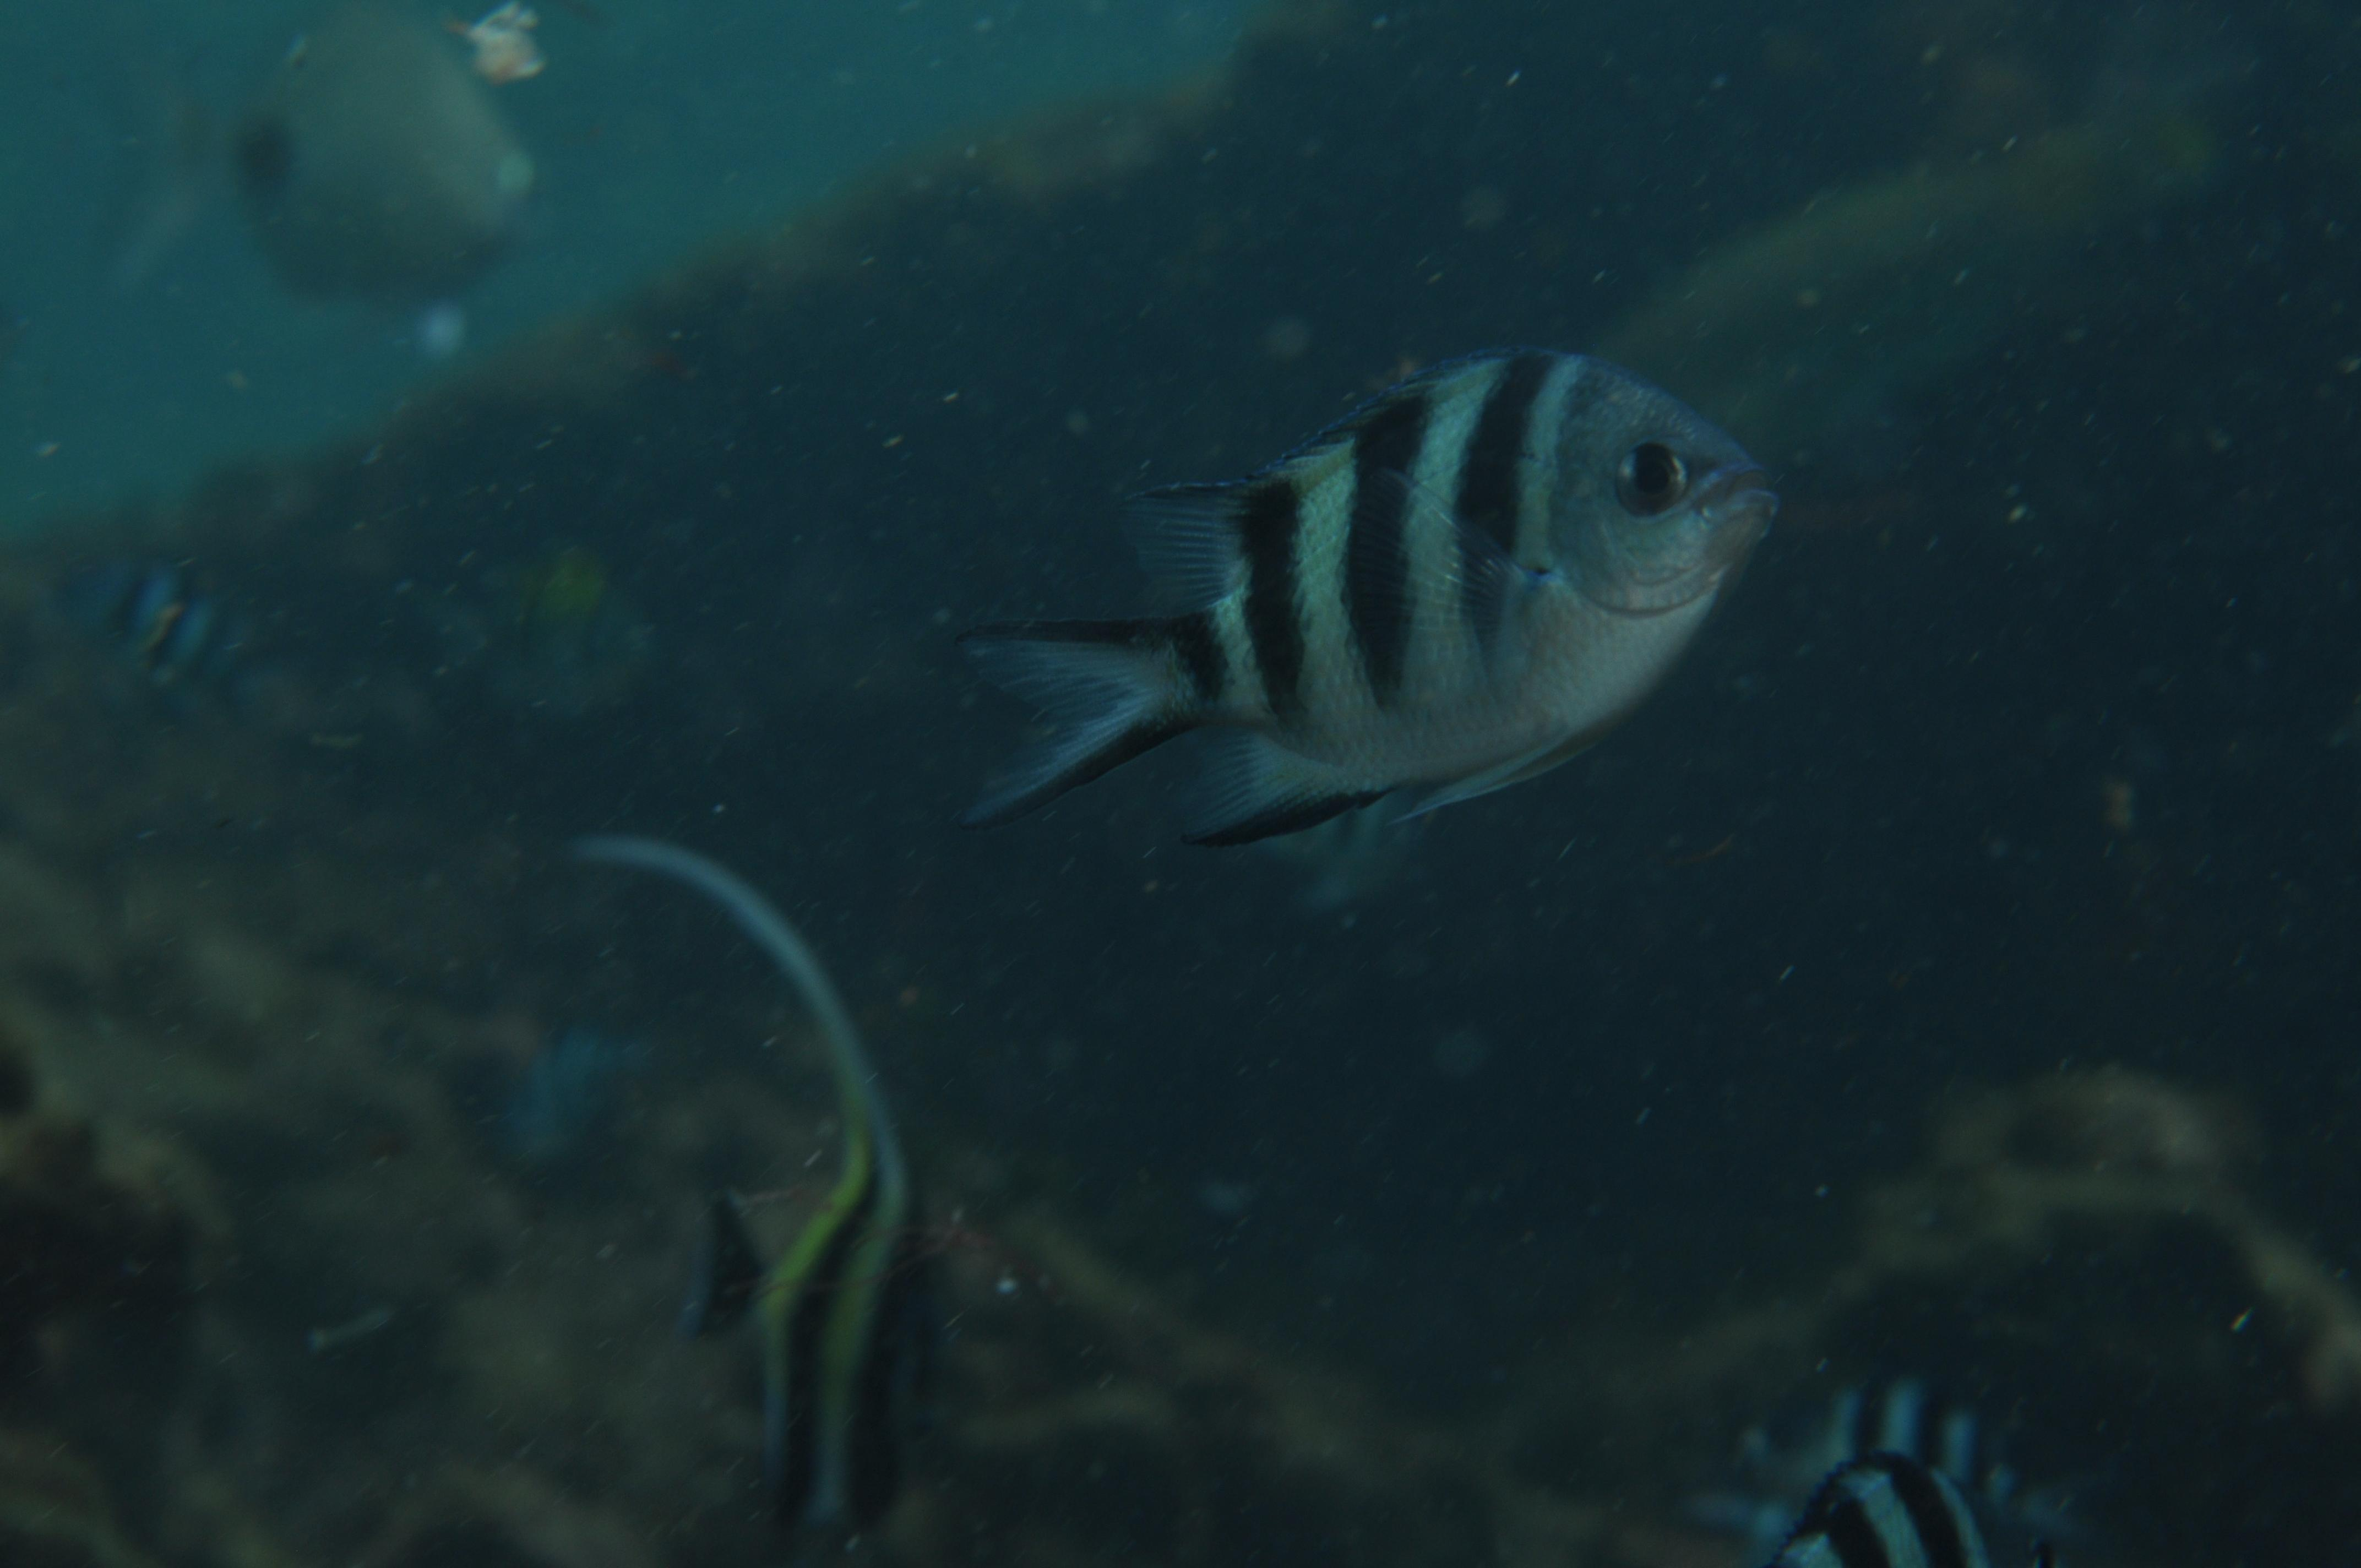Fish: (882, 315, 1859, 931)
